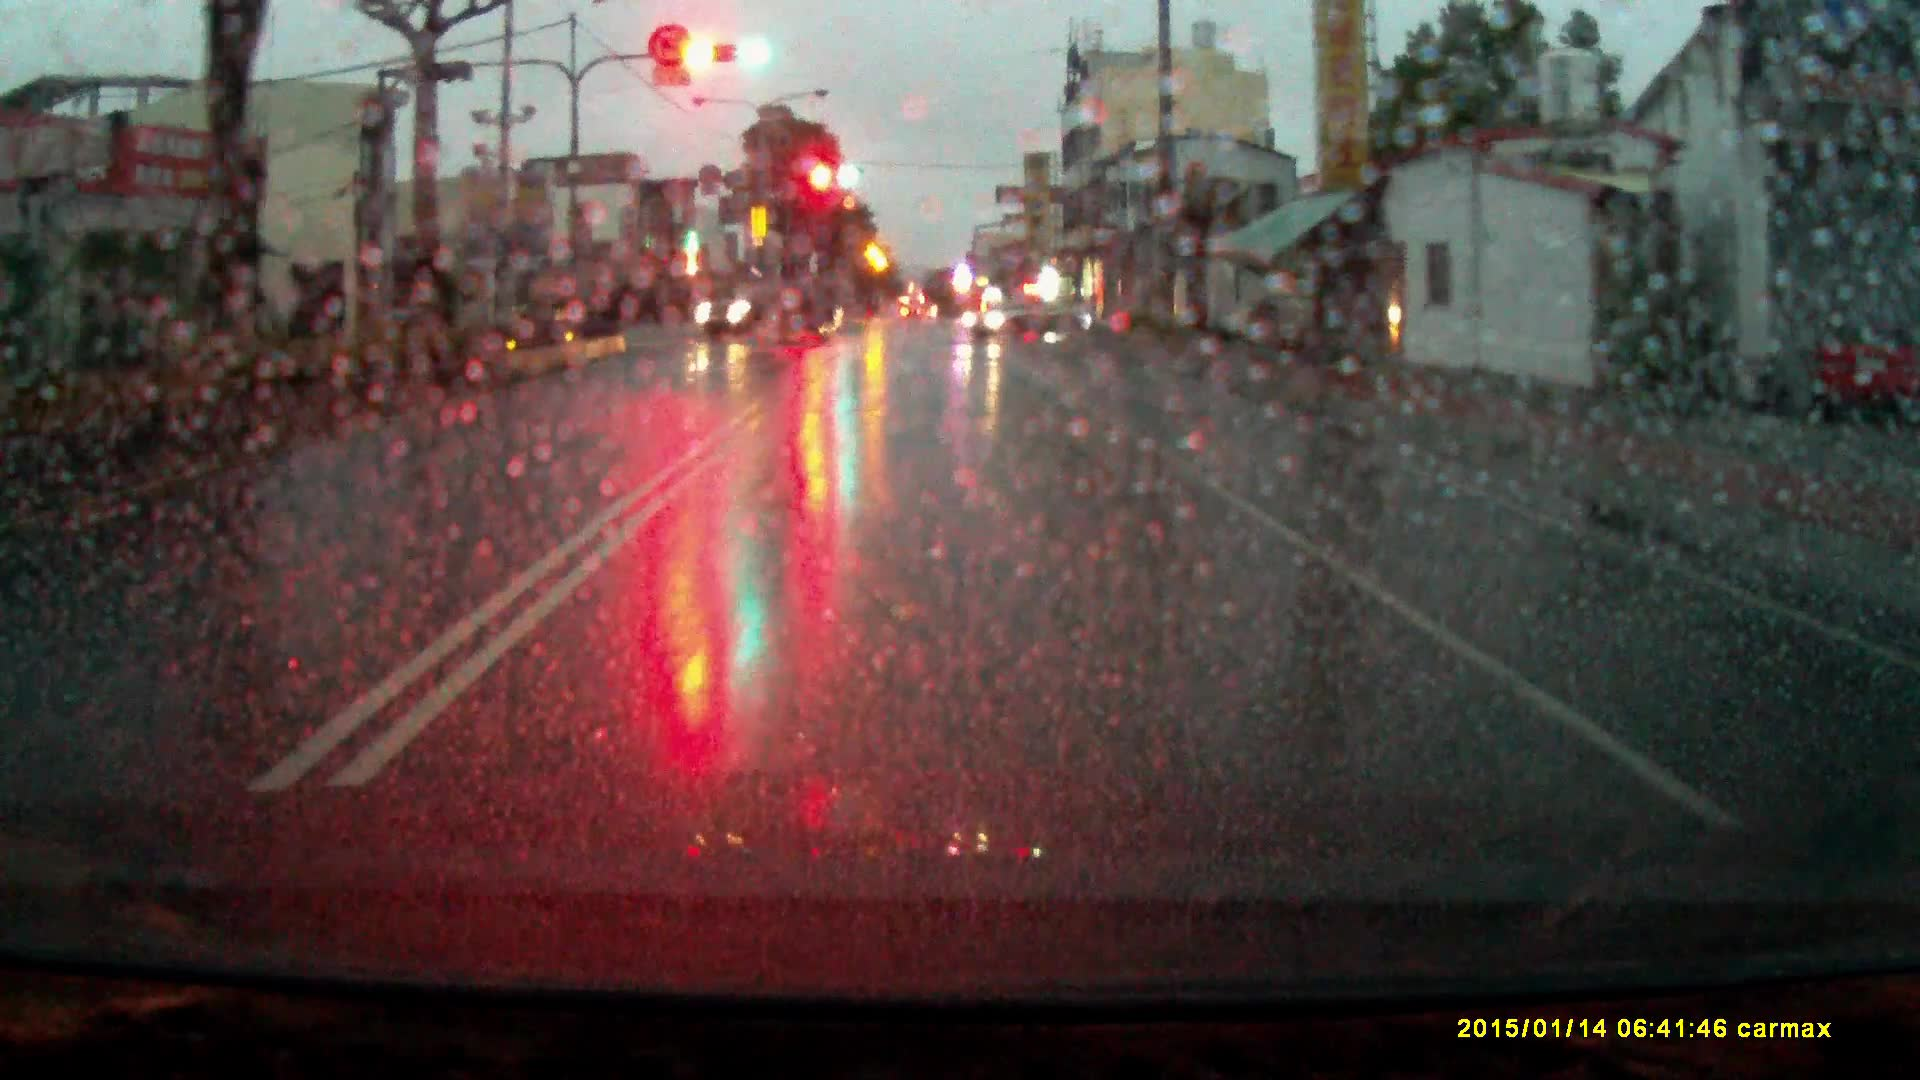vehicle: (694, 274, 845, 345), (960, 295, 1095, 342)
